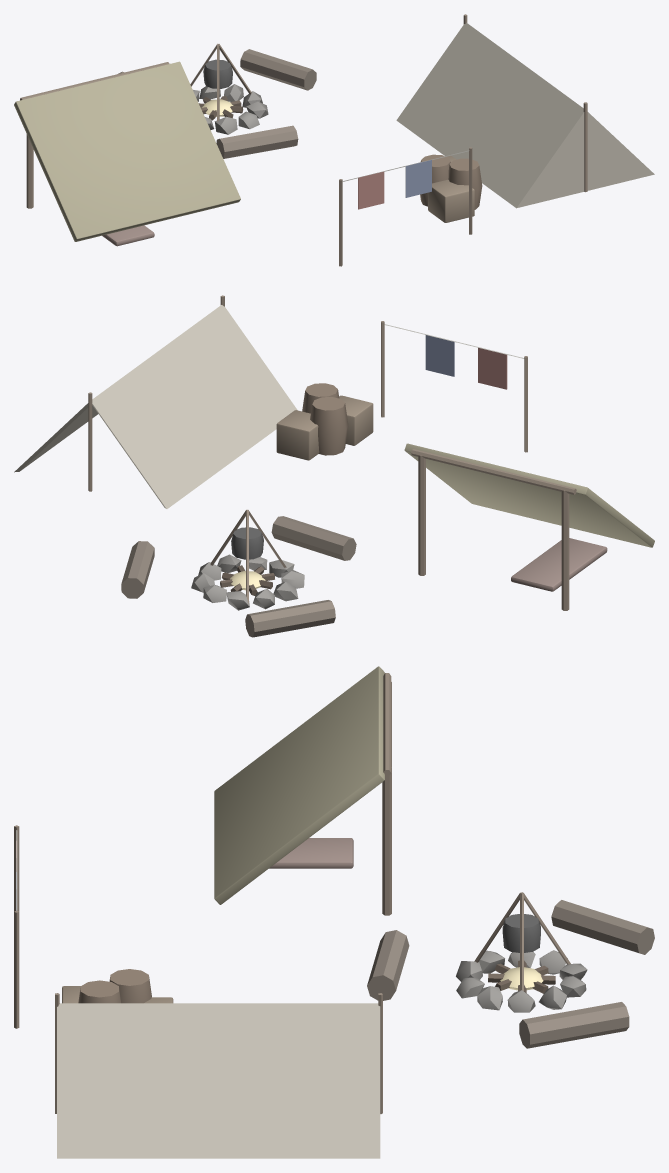
The model's file is camp.gltf.
The picture shows the model from 3 angles, top to bottom: view 1: azimuth 30°, elevation 25°; view 2: azimuth 150°, elevation 25°; view 3: azimuth 270°, elevation 25°; orthographic projection. The views are drawn at different scales.
Visible parts, largest first — view 1: Body; view 2: Body; view 3: Body.
Boxes of the visible parts, x1,y1,x2,y2 form: Body: (14,14,654,266); Body: (14,295,654,637); Body: (14,666,654,1158).
Bounding box in the file's own units: 12 × 2.61 × 9.52.
